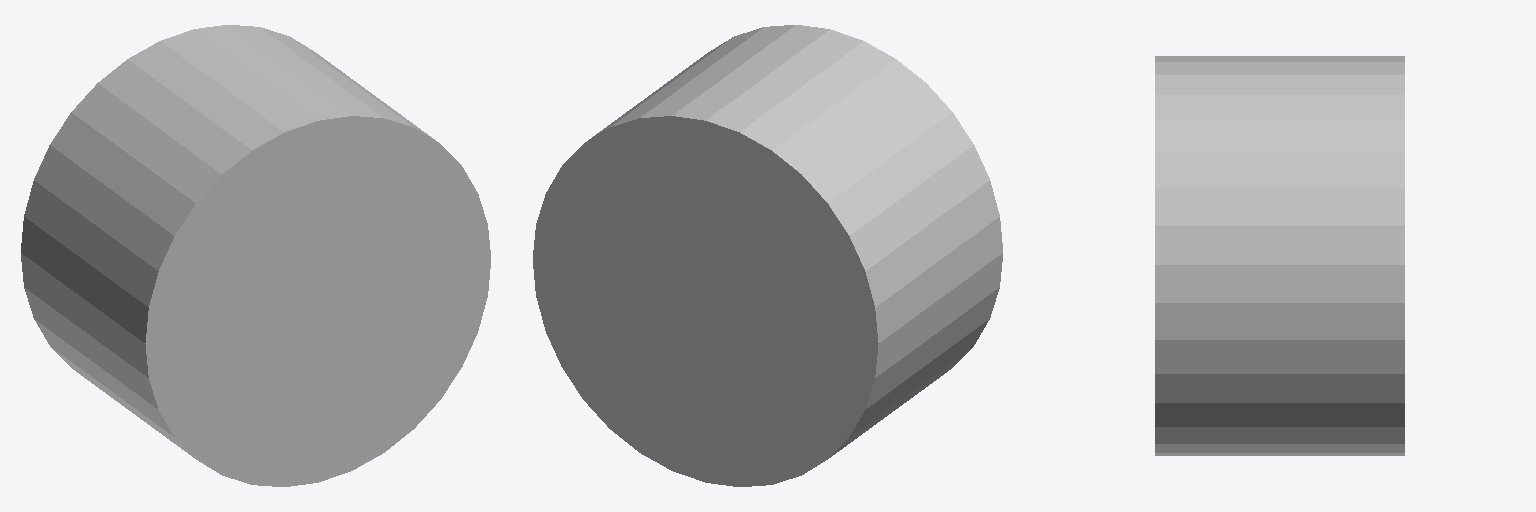
The model's file is tankWheel.obj.
3 views of the same model, side by side, from view 1: azimuth 30°, elevation 25°; view 2: azimuth 150°, elevation 25°; view 3: azimuth 270°, elevation 25° (orthographic).
Visible parts, largest first — view 1: BackLeftWheel; view 2: BackLeftWheel; view 3: BackLeftWheel.
Part boxes in pixels (bbox=[...]): BackLeftWheel: bbox=[21, 25, 490, 486]; BackLeftWheel: bbox=[533, 25, 1002, 486]; BackLeftWheel: bbox=[1155, 56, 1404, 455].
Bounding box in the file's own units: 0.816 × 0.816 × 0.51.